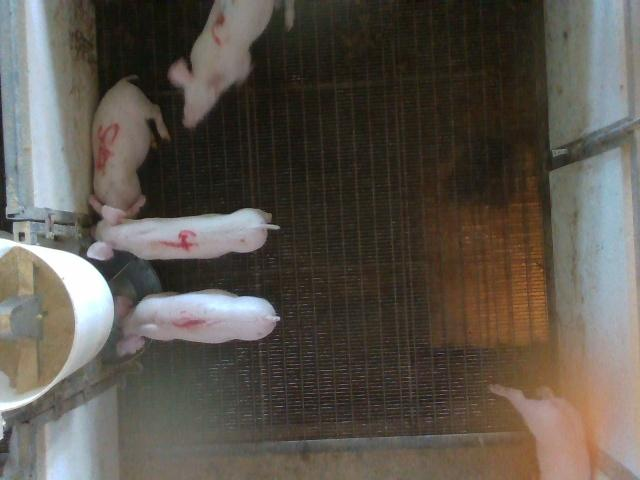pig-1: (114, 290, 280, 356)
pig-4: (89, 205, 279, 260)
pig-5: (92, 75, 170, 216)
